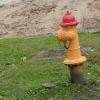a fire hydrant: (57, 13, 82, 75)
